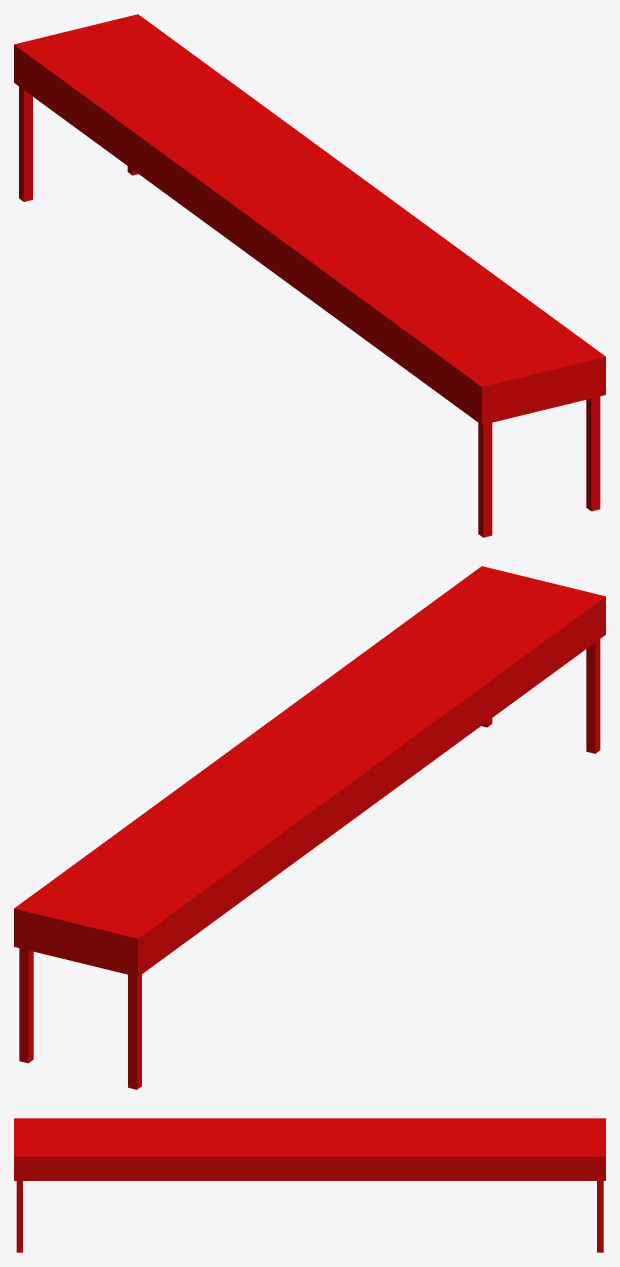
Rendered from BenchCollider.fbx.
3 views of the same model, one above another, from view 1: azimuth 30°, elevation 25°; view 2: azimuth 150°, elevation 25°; view 3: azimuth 270°, elevation 25° (orthographic). The views are drawn at different scales.
Visible parts, largest first — view 1: BenchCollision; view 2: BenchCollision; view 3: BenchCollision.
Boxes of the visible parts, left/top/right/bottom form: BenchCollision: left=14, top=14, right=605, bottom=537; BenchCollision: left=14, top=566, right=605, bottom=1089; BenchCollision: left=14, top=1118, right=605, bottom=1252.
Bounding box in the file's own units: 42.4 × 50 × 277.
